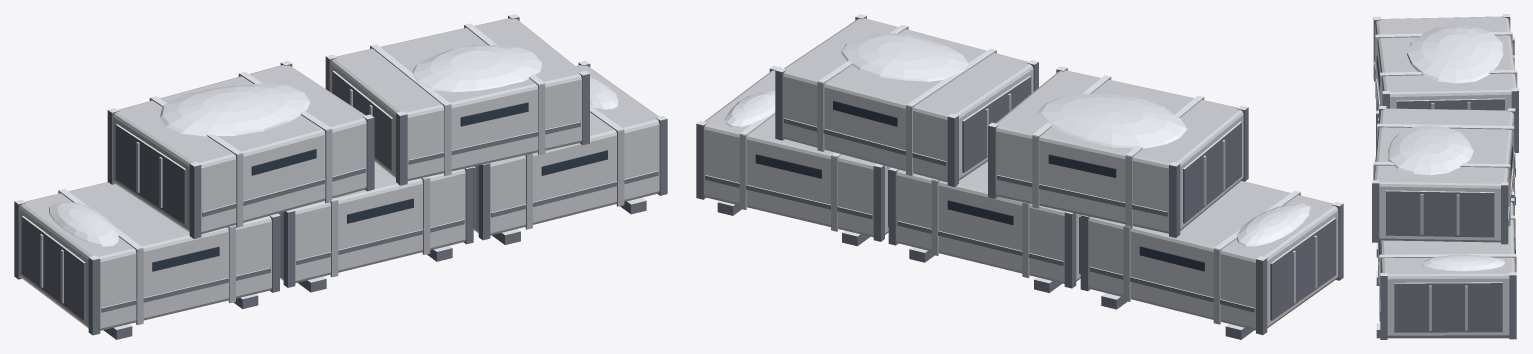
The model's file is PR_Cobertura_Conteineres.fbx.
3 renders of one model, left to right at view 1: azimuth 30°, elevation 25°; view 2: azimuth 150°, elevation 25°; view 3: azimuth 270°, elevation 25°, orthographic. The views are drawn at different scales.
Visible parts, largest first — view 1: PR_Cobertura_Conteineres; view 2: PR_Cobertura_Conteineres; view 3: PR_Cobertura_Conteineres.
Boxes of the visible parts, x1,y1,x2,y2 form: PR_Cobertura_Conteineres: (14, 14, 667, 339); PR_Cobertura_Conteineres: (696, 14, 1343, 339); PR_Cobertura_Conteineres: (1372, 14, 1518, 339).
Size of the model in its own units: 11.04 by 3 by 2.85.
